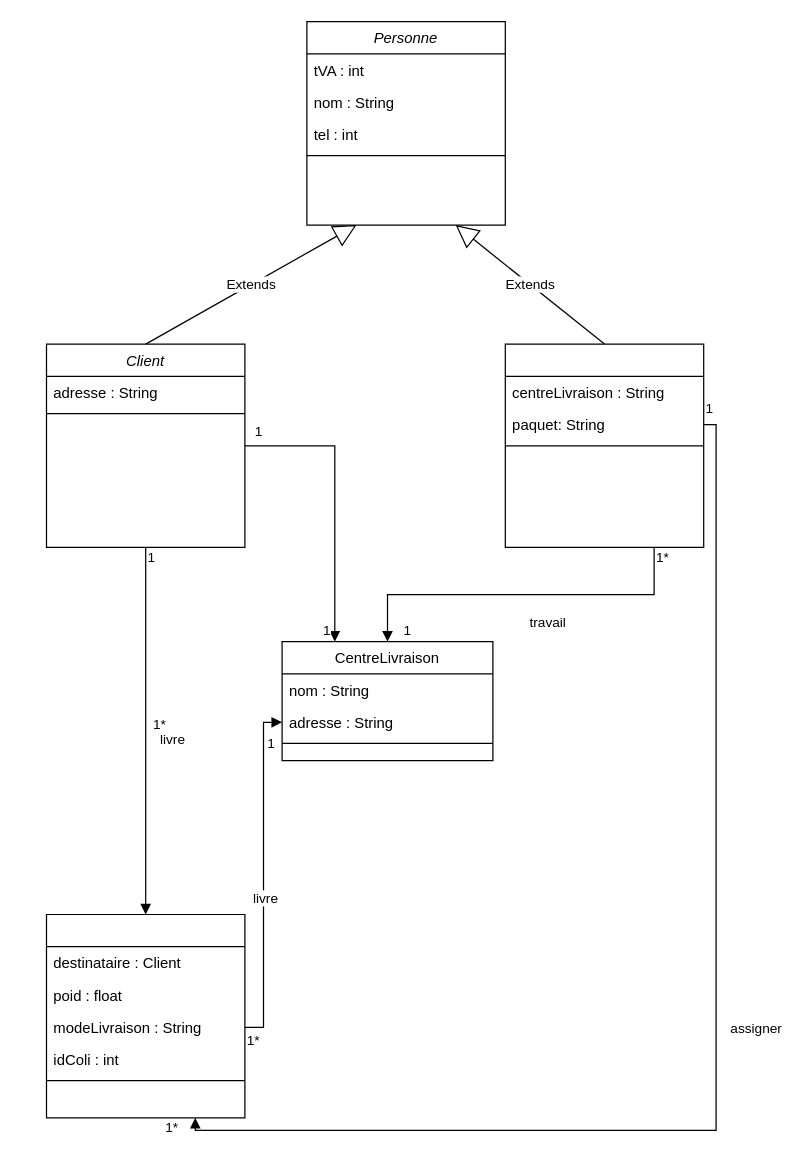
Some shapes in this 804 by 1162 pixel diagram are drawn without their labels. The shapes that lost their labels are listed below. From the top down, each one's box as (x1, y1, x2, y2) in pixels, then its label:
(504, 343, 704, 547): Courssier
(45, 913, 245, 1118): Colis
